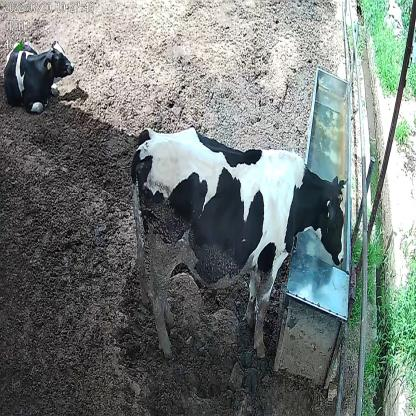cow: (127, 124, 348, 361), (4, 33, 74, 113)
